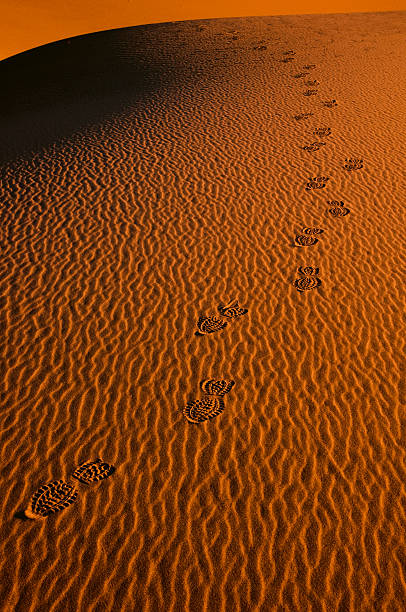human_foot_print: (183, 379, 234, 423), (24, 480, 77, 518), (25, 480, 76, 518), (72, 458, 114, 483), (293, 266, 320, 291), (195, 315, 226, 335), (295, 227, 323, 246), (218, 300, 247, 317), (328, 200, 349, 216), (305, 176, 328, 190), (302, 141, 325, 151), (344, 158, 362, 170), (313, 127, 331, 137), (294, 112, 312, 120), (323, 99, 337, 107), (303, 89, 317, 96), (304, 80, 319, 86), (293, 72, 308, 78), (303, 64, 316, 70)
